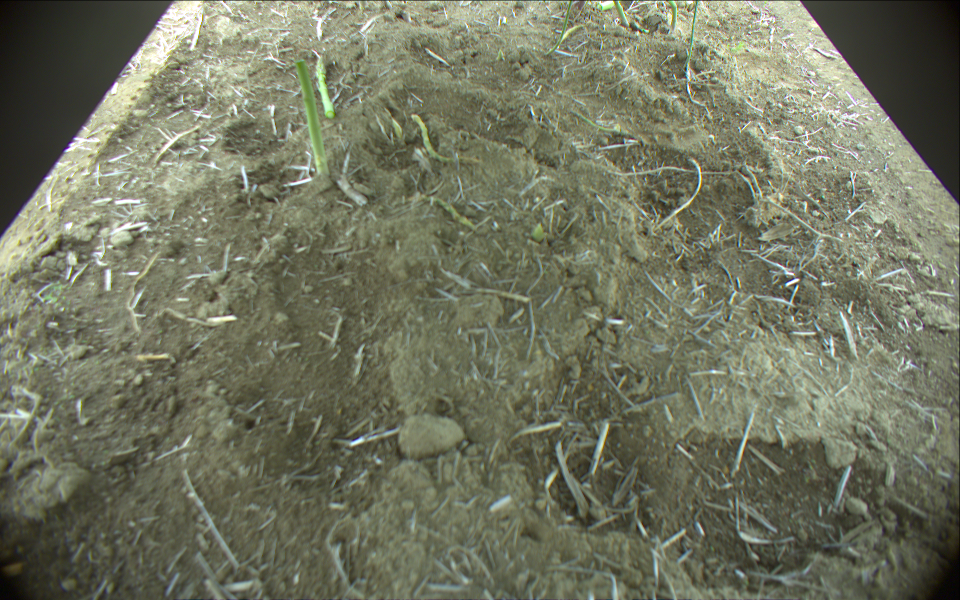aspa: (294, 59, 333, 177), (413, 116, 478, 165), (545, 1, 574, 56), (314, 55, 336, 118), (688, 1, 704, 65), (613, 1, 632, 27), (667, 1, 680, 34), (392, 117, 405, 142), (597, 1, 614, 10)
